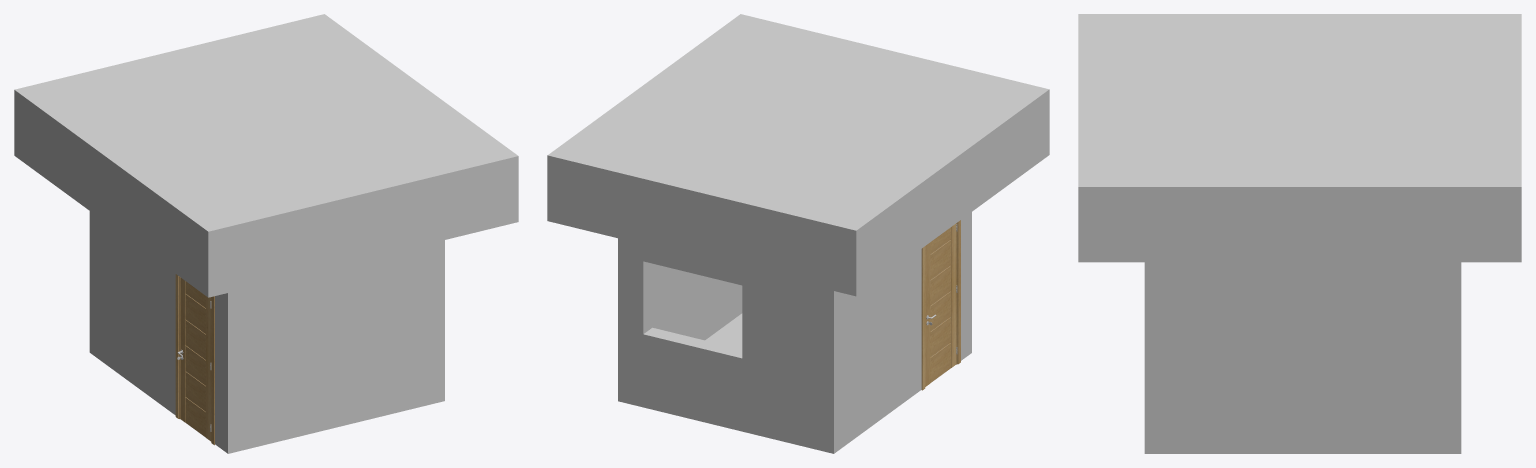
File: cabine.glb
3 renders of one model, left to right at view 1: azimuth 30°, elevation 25°; view 2: azimuth 150°, elevation 25°; view 3: azimuth 270°, elevation 25°, orthographic. The views are drawn at different scales.
Visible parts, largest first — view 1: Componente_34_1, Componente_55_1, Door_Modern___Swing___DO_DUNG1, Door_Modern___Swing___DO_DUNG2, Door_Modern___Frame___CHI_TRAI_SAU1, Door_Modern___Frame___CHI_PHAI_SAU1, Door_Modern___Swing___PANEL_1_1, Door_Modern___Swing___PANEL_5_1, Door_Modern___Swing___PANEL_2_1, Door_Modern___Swing___PANEL_3_1, Door_Modern___Swing___PANEL_4_1; view 2: Componente_34_1, Componente_55_1, Door_Modern___Swing___DO_DUNG1, Door_Modern___Swing___DO_DUNG2, Door_Modern___Frame___CHI_TRAI_SAU1, Door_Modern___Frame___CHI_PHAI_SAU1, Door_Modern___Swing___PANEL_4_1, Door_Modern___Swing___PANEL_1_1, Door_Modern___Swing___PANEL_5_1, Door_Modern___Swing___PANEL_2_1, Door_Modern___Swing___PANEL_3_1; view 3: Componente_34_1, Componente_55_1.
Part boxes in pixels (bbox=[...]): Componente_34_1: bbox=[14, 14, 518, 297]; Componente_55_1: bbox=[89, 211, 444, 453]; Door_Modern___Swing___DO_DUNG1: bbox=[206, 296, 211, 441]; Door_Modern___Swing___DO_DUNG2: bbox=[180, 277, 185, 422]; Door_Modern___Frame___CHI_TRAI_SAU1: bbox=[175, 274, 179, 418]; Door_Modern___Frame___CHI_PHAI_SAU1: bbox=[211, 296, 214, 445]; Door_Modern___Swing___PANEL_1_1: bbox=[185, 397, 205, 437]; Door_Modern___Swing___PANEL_5_1: bbox=[185, 294, 205, 333]; Door_Modern___Swing___PANEL_2_1: bbox=[185, 372, 205, 411]; Door_Modern___Swing___PANEL_3_1: bbox=[185, 346, 205, 385]; Door_Modern___Swing___PANEL_4_1: bbox=[185, 320, 205, 359]; Componente_34_1: bbox=[547, 14, 1049, 296]; Componente_55_1: bbox=[618, 212, 971, 453]; Door_Modern___Swing___DO_DUNG1: bbox=[951, 223, 956, 367]; Door_Modern___Swing___DO_DUNG2: bbox=[925, 242, 930, 386]; Door_Modern___Frame___CHI_TRAI_SAU1: bbox=[921, 246, 925, 390]; Door_Modern___Frame___CHI_PHAI_SAU1: bbox=[957, 220, 960, 364]; Door_Modern___Swing___PANEL_4_1: bbox=[930, 265, 950, 305]; Door_Modern___Swing___PANEL_1_1: bbox=[930, 343, 950, 382]; Door_Modern___Swing___PANEL_5_1: bbox=[930, 240, 950, 279]; Door_Modern___Swing___PANEL_2_1: bbox=[930, 317, 950, 356]; Door_Modern___Swing___PANEL_3_1: bbox=[930, 291, 950, 331]; Componente_34_1: bbox=[1078, 14, 1521, 262]; Componente_55_1: bbox=[1144, 262, 1461, 453].
Size of the model in its own units: 4.52 by 3.56 by 4.9.
4 materials, 1 textured.
